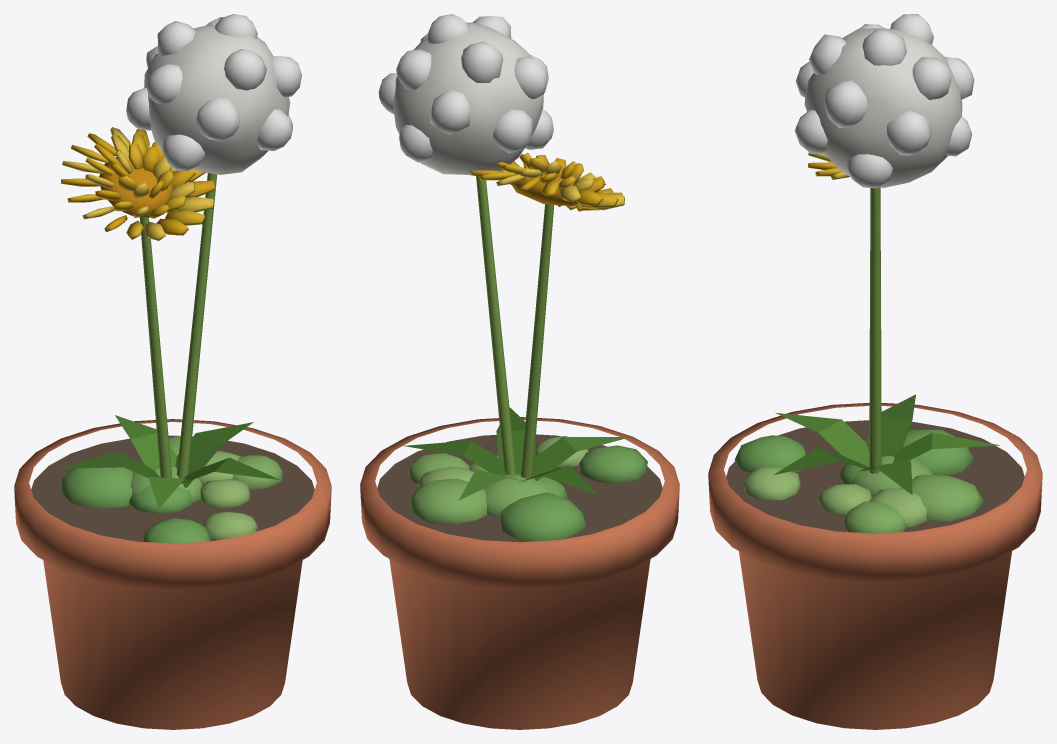
Rendered from flowerpot.glb.
3 views of the same model, side by side, from view 1: azimuth 30°, elevation 25°; view 2: azimuth 150°, elevation 25°; view 3: azimuth 270°, elevation 25° (orthographic). The views are drawn at different scales.
Parts seen in each view (by area): view 1: body, body_nl, body_nh; view 2: body, body_nl, body_nh; view 3: body, body_nl, body_nh.
Part boxes in pixels (box(x1,y1,x2,y2)): body: box(14, 157, 331, 729); body_nl: box(60, 14, 301, 543); body_nh: box(56, 415, 280, 508); body: box(360, 172, 679, 729); body_nl: box(378, 14, 647, 541); body_nh: box(404, 407, 629, 500); body: box(708, 187, 1042, 729); body_nl: box(734, 14, 984, 533); body_nh: box(773, 394, 999, 494).
Size of the model in its own units: 8.5 by 19.15 by 8.5.
